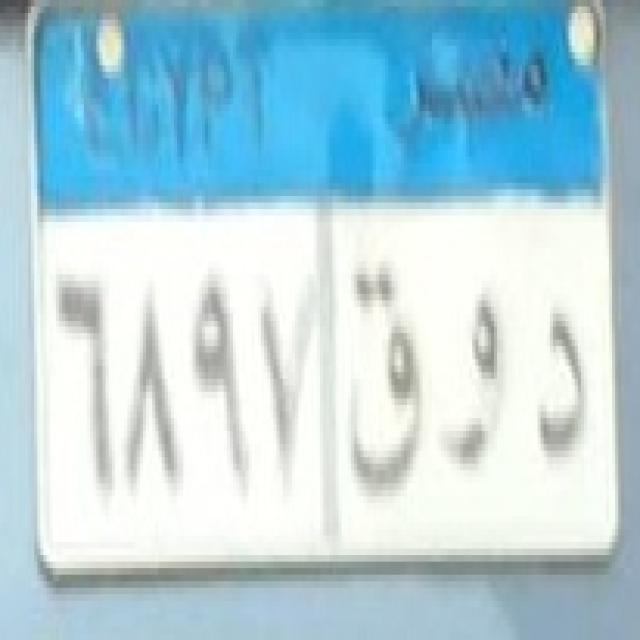6: (52, 268, 129, 509)
7: (250, 265, 318, 498)
8: (121, 278, 191, 506)
9: (190, 270, 254, 502)
Taa: (334, 258, 432, 501)
Wow: (438, 274, 518, 482)
daal: (526, 282, 600, 473)
